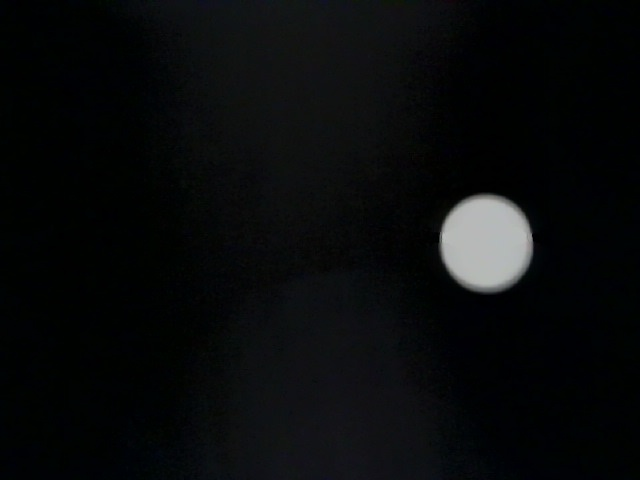YHLJ: (223, 20, 464, 120)
